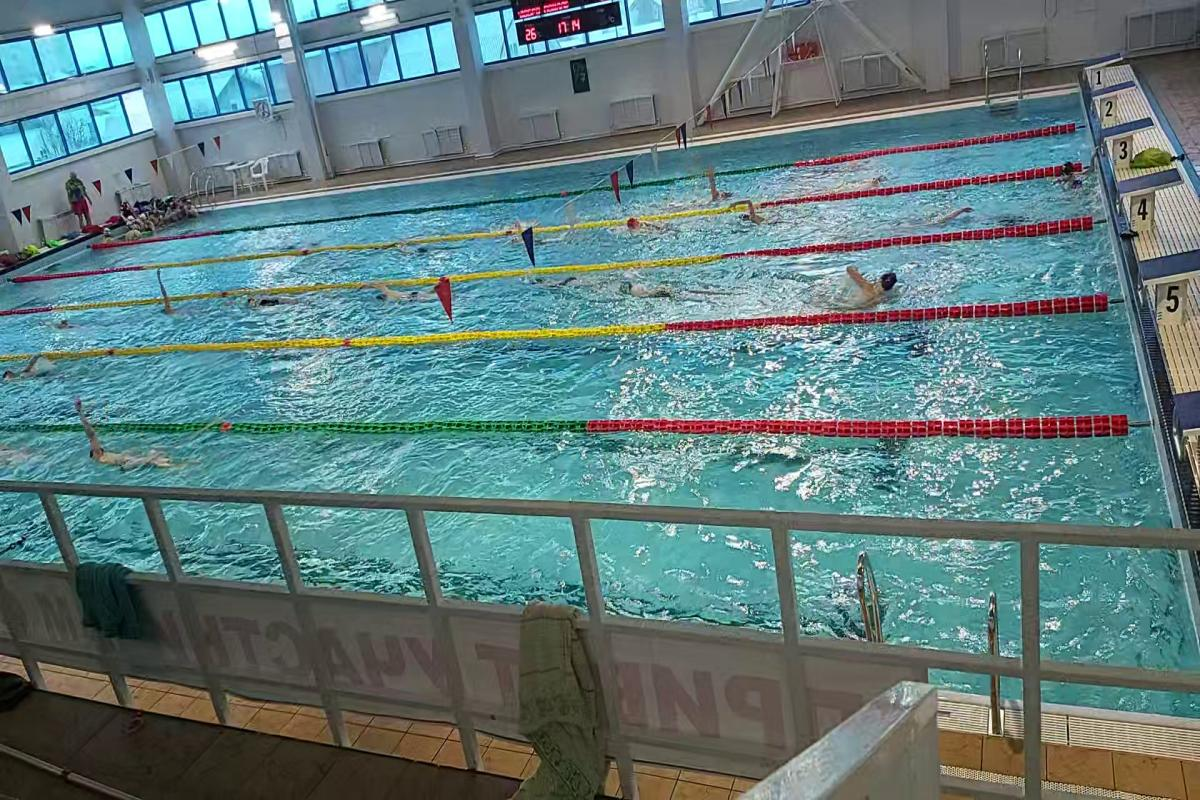swimmer: (57, 402, 203, 474), (799, 257, 912, 311), (554, 267, 682, 306), (728, 197, 810, 230), (354, 278, 433, 310), (148, 262, 186, 318), (619, 210, 683, 241), (237, 291, 327, 313), (3, 354, 68, 382)
